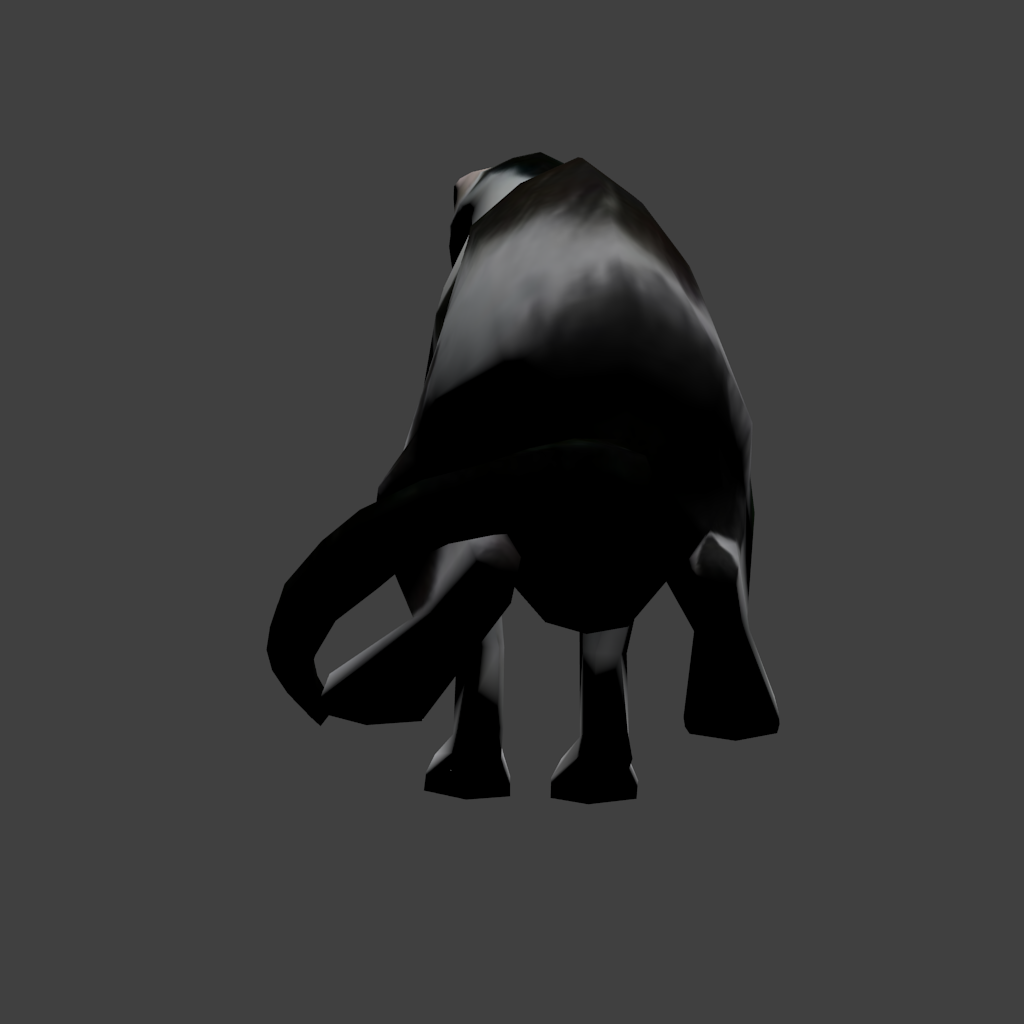Cat: (266, 152, 513, 653)
